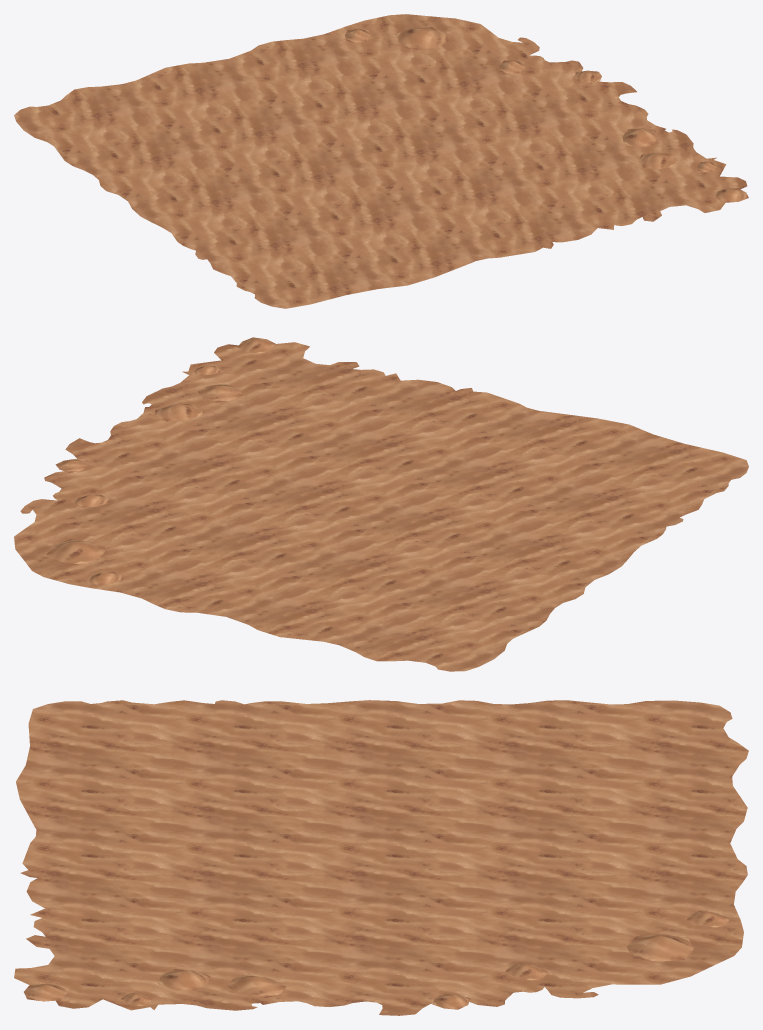
File: pyramid_ground_section_glb.glb
The picture shows the model from 3 angles, top to bottom: view 1: azimuth 30°, elevation 25°; view 2: azimuth 150°, elevation 25°; view 3: azimuth 270°, elevation 25°; orthographic projection. The views are drawn at different scales.
Visible parts, largest first — view 1: ground; view 2: ground; view 3: ground.
Part boxes in pixels (bbox=[...]): ground: bbox=[14, 14, 748, 308]; ground: bbox=[14, 337, 748, 671]; ground: bbox=[14, 700, 748, 1015].
Size of what is drawn, in the model's own units: 78.39 by 1.27 by 77.11.
Materials: 1 (1 with a texture image).
